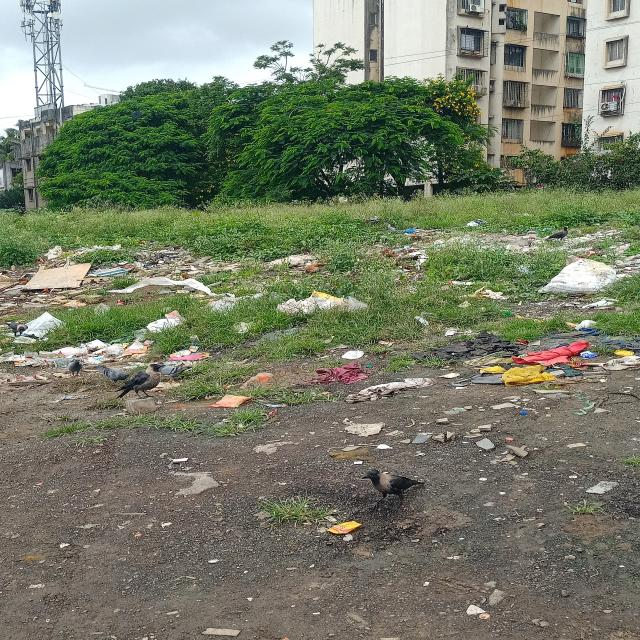garbage: (429, 327, 640, 396), (6, 311, 211, 381), (21, 246, 230, 305), (545, 231, 640, 307), (398, 228, 543, 263), (232, 252, 318, 285), (280, 290, 365, 315)
